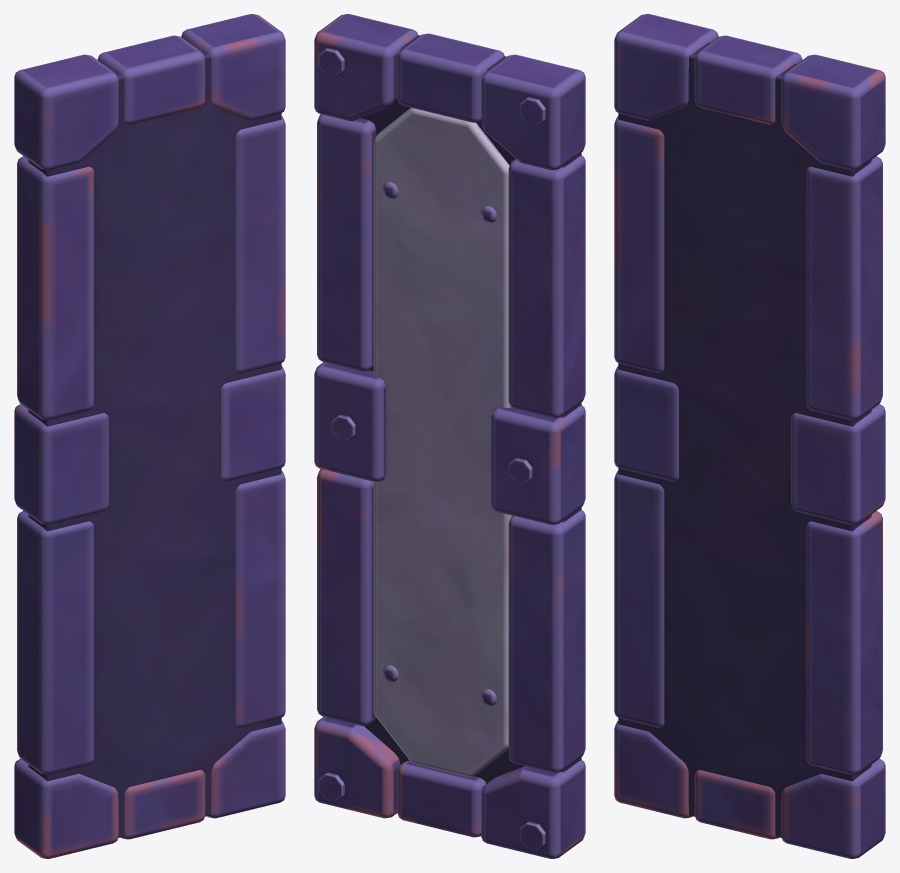
Rendered from bg_claude_w01_half.glb.
The picture shows the model from 3 angles, left to right: view 1: azimuth 30°, elevation 25°; view 2: azimuth 150°, elevation 25°; view 3: azimuth 330°, elevation 25°; orthographic projection.
Visible parts, largest first — view 1: wall; view 2: wall; view 3: wall.
Boxes of the visible parts, x1,y1,x2,y2 form: wall: (14,14,285,858); wall: (314,14,585,858); wall: (614,14,885,858).
Bounding box in the file's own units: 1 × 3 × 0.25.
Materials: 1 (1 with a texture image).
